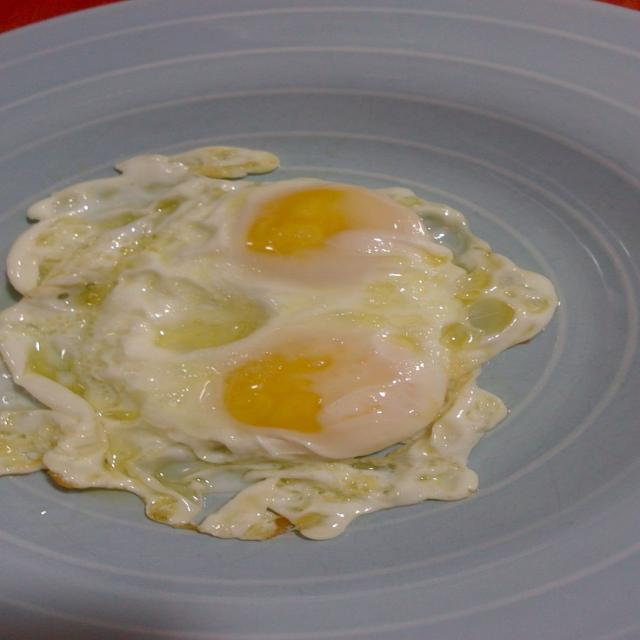fryed egg: (0, 148, 555, 539)
